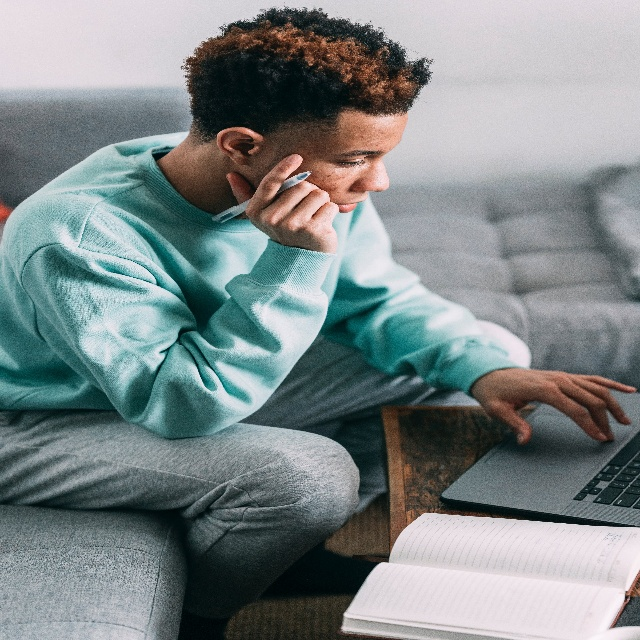Sin_guantes: (473, 359, 638, 446), (225, 149, 341, 256)
